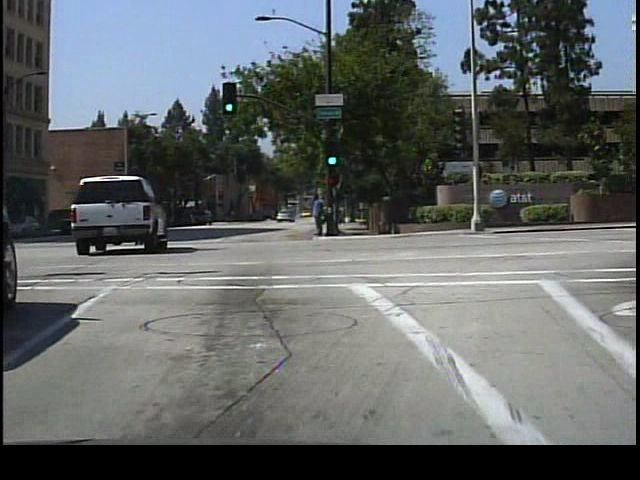person: (307, 187, 329, 237), (314, 192, 332, 236)
